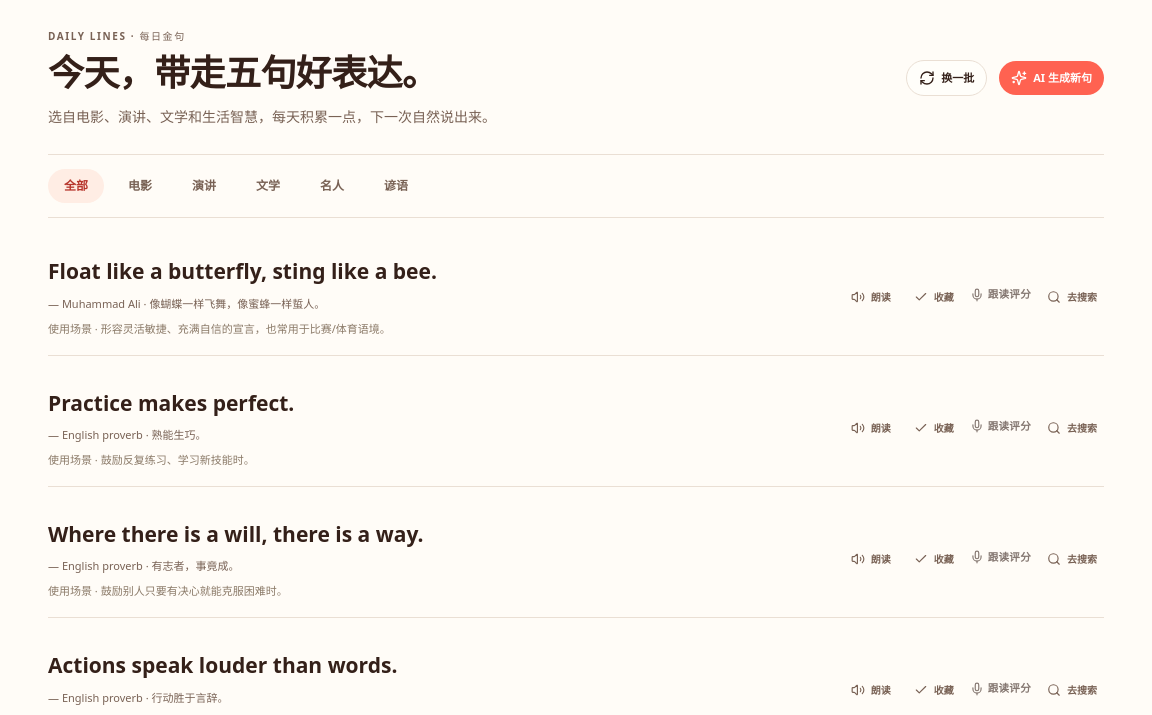
Test: surfaces a real native startup failure from the dictionary overlay without closing it
Expected: the heading "今天，带走五句好表达。" is shown, [48,48,437,97]
Click the button with aria-label "查询 " at (74, 271), box [48,257,101,285]
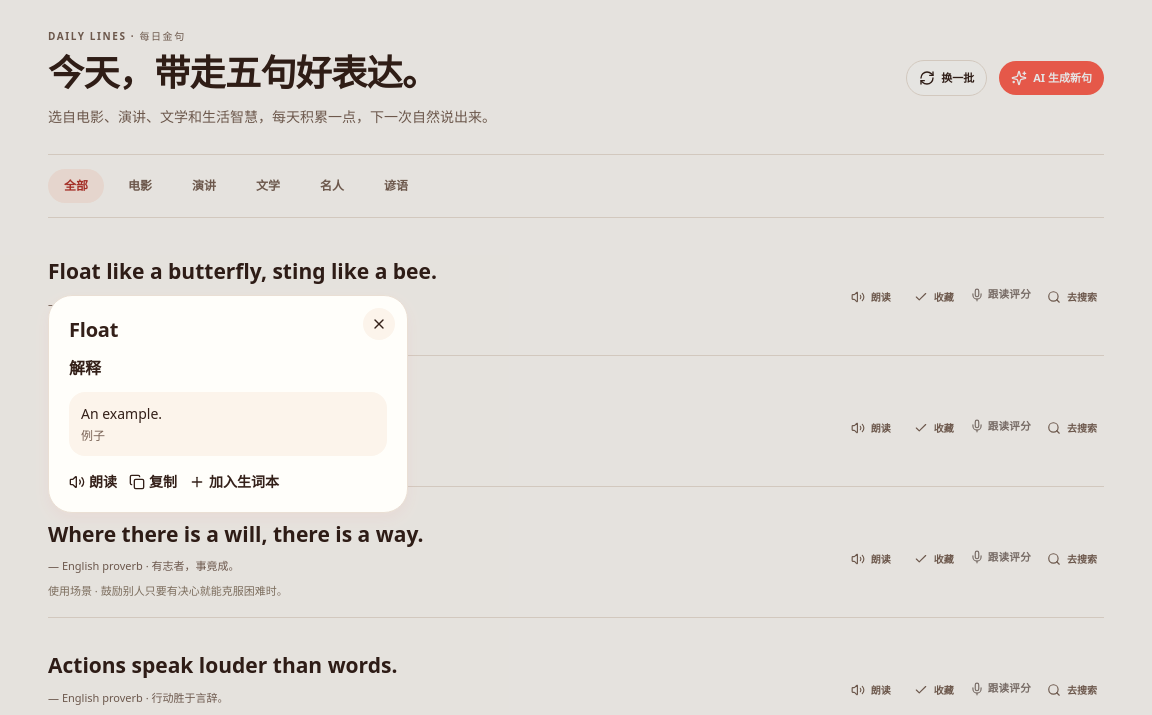
Click the button "朗读" at (93, 482), box [69,472,117,492]
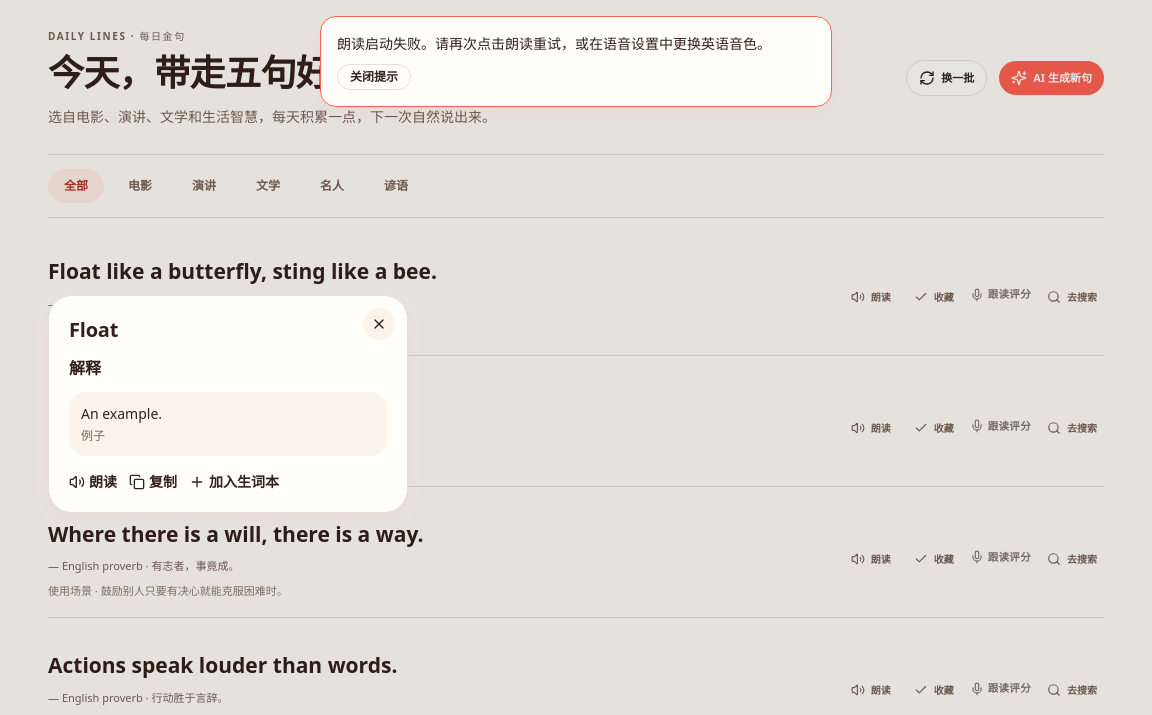
Result: the message shows "朗读启动失败" at [337,34,771,53]
Result: the message shows "重试" at [320,16,832,107]
Result: the message shows "更换英语音色" at [337,34,771,53]
